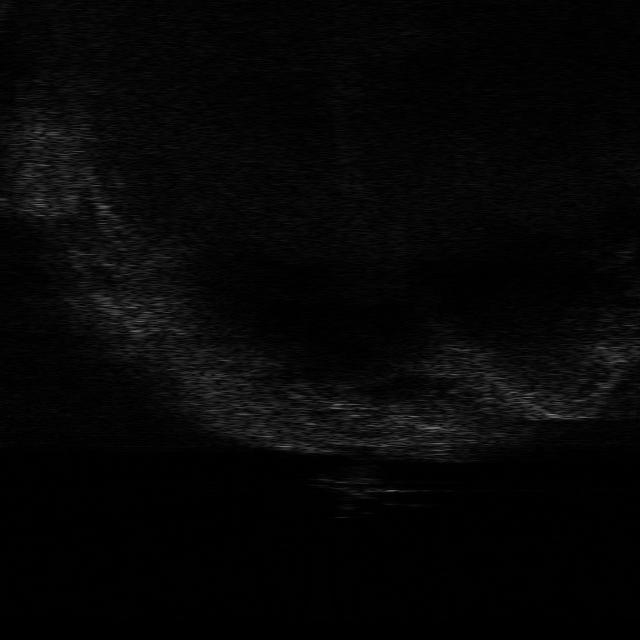plane: (309, 472, 419, 502)
